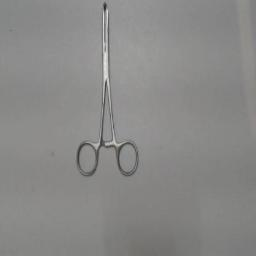Allis Tissue Forceps: (72, 2, 144, 180)
